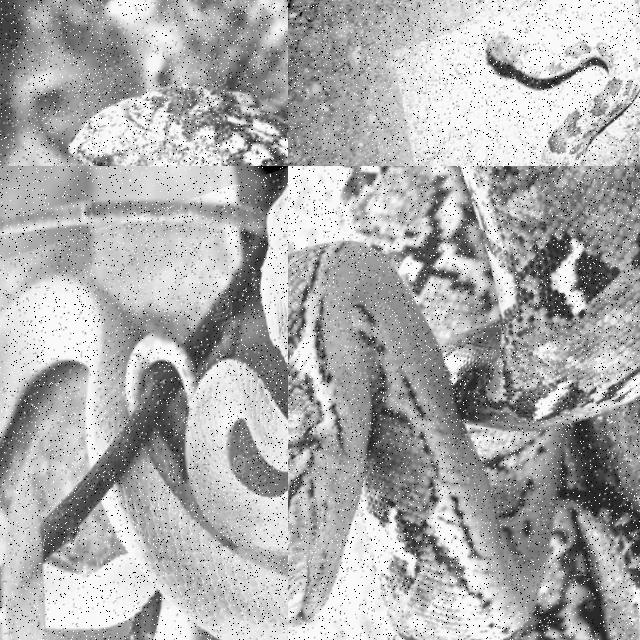Calloselasma rhodostoma: (6, 0, 287, 165)
Malayopython reticulatus: (288, 166, 639, 639)
Ovophis monticola: (483, 16, 639, 165)
Trimeresurus: (46, 452, 287, 639)
